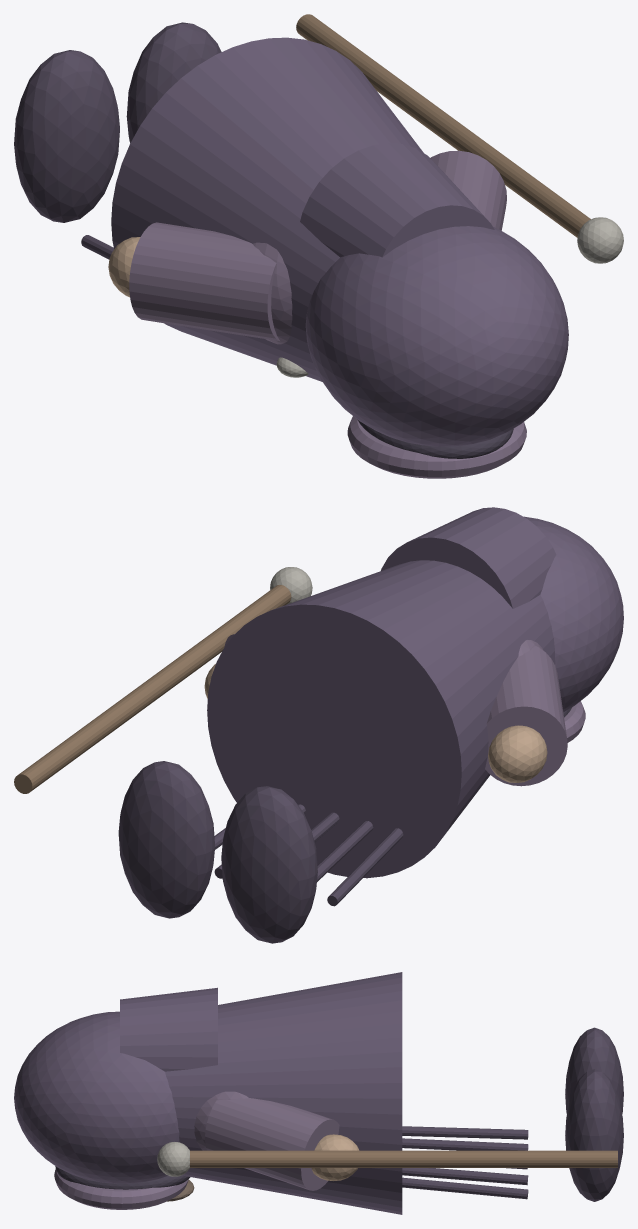
Rendered from monk.glb.
3 renders of one model, top to bottom at view 1: azimuth 30°, elevation 25°; view 2: azimuth 150°, elevation 25°; view 3: azimuth 270°, elevation 25°, orthographic. The views are drawn at different scales.
Visible parts, largest first — view 1: Long_flared_robe, Hood_outer, Left_boot, Back_hood_drape, Left_sleeve, Wooden_staff, Right_boot, Hood_rim, Right_sleeve, Robe_shoulders, Staff_top, Face_shadow (+1 smaller); view 2: Long_flared_robe, Left_boot, Right_boot, Hood_outer, Back_hood_drape, Wooden_staff, Left_sleeve, Left_hand, Robe_fold_0, Staff_top, Robe_fold_1; view 3: Long_flared_robe, Hood_outer, Wooden_staff, Back_hood_drape, Right_sleeve, Right_boot, Left_boot, Hood_rim, Robe_fold_4, Robe_fold_0, Robe_fold_3, Robe_fold_1 (+4 smaller).
Part boxes in pixels (bbox=[...]): Long_flared_robe: bbox=[111, 37, 423, 381]; Hood_outer: bbox=[305, 226, 568, 446]; Left_boot: bbox=[14, 50, 119, 222]; Back_hood_drape: bbox=[300, 143, 494, 257]; Left_sleeve: bbox=[129, 222, 279, 340]; Wooden_staff: bbox=[296, 14, 590, 237]; Right_boot: bbox=[126, 22, 221, 143]; Hood_rim: bbox=[347, 416, 526, 478]; Right_sleeve: bbox=[430, 150, 506, 230]; Robe_shoulders: bbox=[252, 242, 292, 344]; Staff_top: bbox=[577, 217, 623, 263]; Face_shadow: bbox=[357, 419, 513, 458]; Long_flared_robe: bbox=[207, 560, 555, 878]; Left_boot: bbox=[221, 786, 317, 943]; Right_boot: bbox=[118, 761, 215, 918]; Hood_outer: bbox=[524, 516, 623, 712]; Back_hood_drape: bbox=[381, 507, 556, 608]; Wooden_staff: bbox=[14, 585, 291, 793]; Left_sleeve: bbox=[485, 646, 567, 786]; Left_hand: bbox=[488, 725, 547, 782]; Robe_fold_0: bbox=[327, 828, 403, 906]; Staff_top: bbox=[270, 567, 312, 604]; Robe_fold_1: bbox=[317, 821, 373, 881]; Long_flared_robe: bbox=[165, 972, 402, 1214]; Hood_outer: bbox=[14, 1011, 179, 1183]; Wooden_staff: bbox=[189, 1150, 617, 1167]; Back_hood_drape: bbox=[120, 987, 217, 1071]; Right_sleeve: bbox=[205, 1098, 339, 1190]; Right_boot: bbox=[565, 1069, 623, 1201]; Left_boot: bbox=[565, 1027, 623, 1113]; Hood_rim: bbox=[54, 1169, 188, 1209]; Robe_fold_4: bbox=[402, 1177, 528, 1199]; Robe_fold_0: bbox=[402, 1126, 528, 1139]; Robe_fold_3: bbox=[402, 1168, 528, 1185]; Robe_fold_1: bbox=[402, 1138, 528, 1150].
Bounding box in the file's own units: 1.81 × 1.24 × 3.11.
